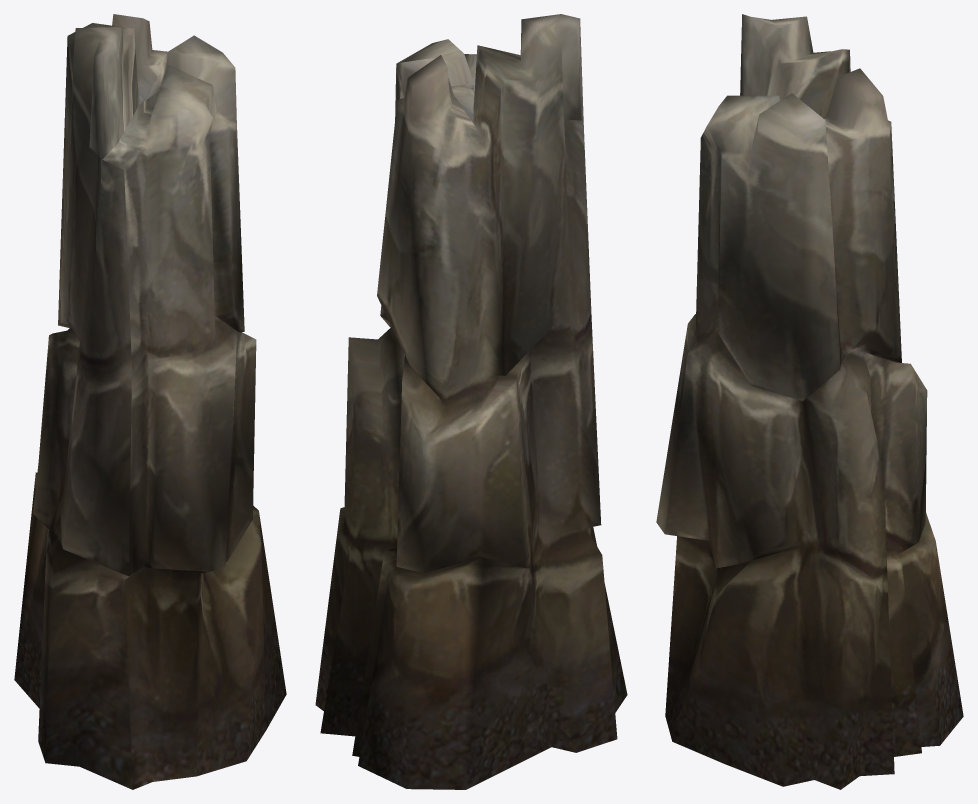
File: borean_rocklarge_06.obj
The picture shows the model from 3 angles, left to right: view 1: azimuth 30°, elevation 25°; view 2: azimuth 150°, elevation 25°; view 3: azimuth 270°, elevation 25°; orthographic projection. The views are drawn at different scales.
Visible parts, largest first — view 1: borean_rocklarge_06; view 2: borean_rocklarge_06; view 3: borean_rocklarge_06.
Boxes of the visible parts, x1,y1,x2,y2 form: borean_rocklarge_06: (14, 14, 286, 789); borean_rocklarge_06: (315, 14, 627, 789); borean_rocklarge_06: (656, 14, 963, 789).
Bounding box in the file's own units: 4.22 × 10.95 × 4.47.
Materials: 1 (1 with a texture image).
